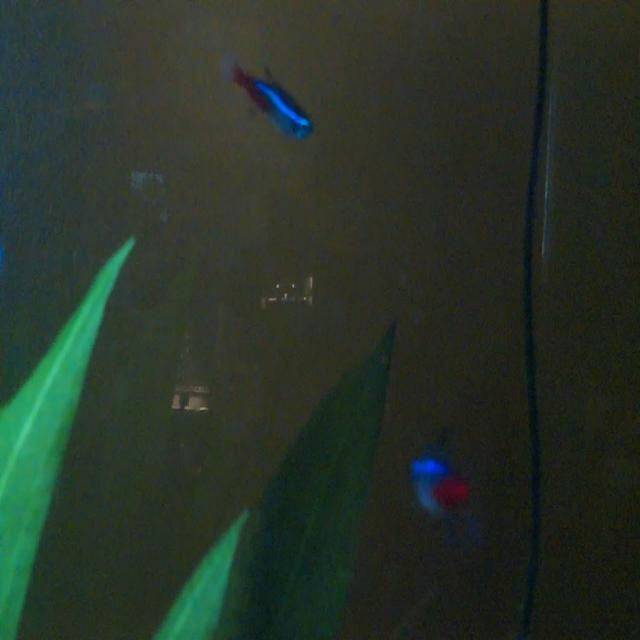fish: (220, 52, 320, 152), (401, 438, 473, 523)
